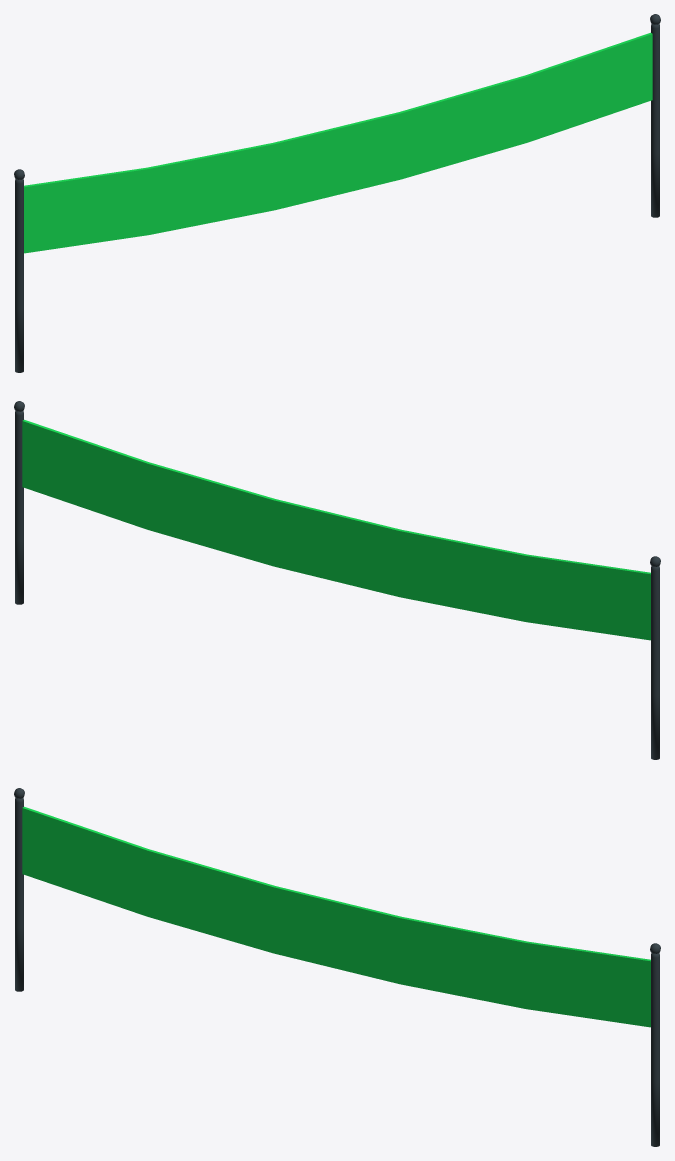
File: Net.fbx
The picture shows the model from 3 angles, top to bottom: view 1: azimuth 30°, elevation 25°; view 2: azimuth 150°, elevation 25°; view 3: azimuth 330°, elevation 25°; orthographic projection.
Parts seen in each view (by area): view 1: Net; view 2: Net; view 3: Net.
Part boxes in pixels (box(x1,y1,x2,y2)): Net: box(14, 14, 660, 372); Net: box(14, 401, 660, 759); Net: box(14, 788, 660, 1146).
Size of the model in its own units: 2042 by 608 by 31.17.
